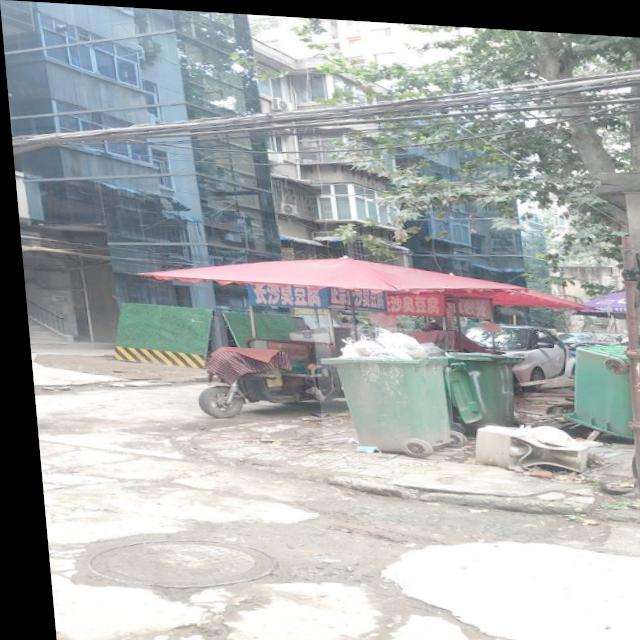garbage_bin: (441, 345, 520, 421)
overflow: (307, 319, 456, 450)
